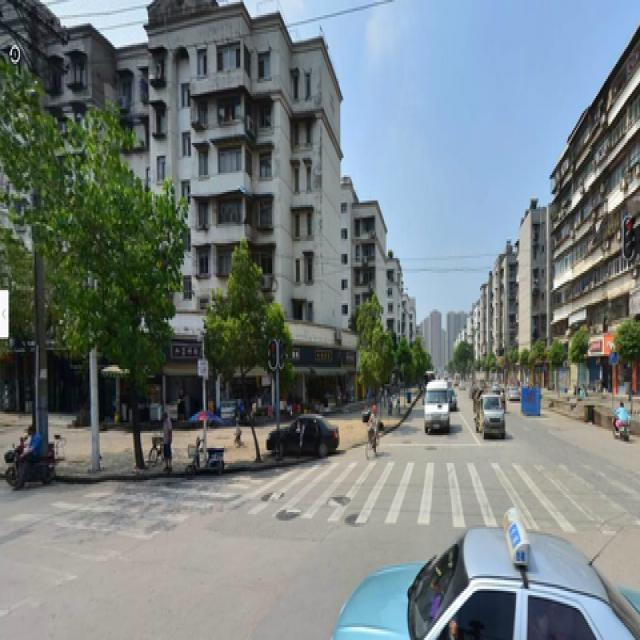meta: (73, 145, 160, 472)
